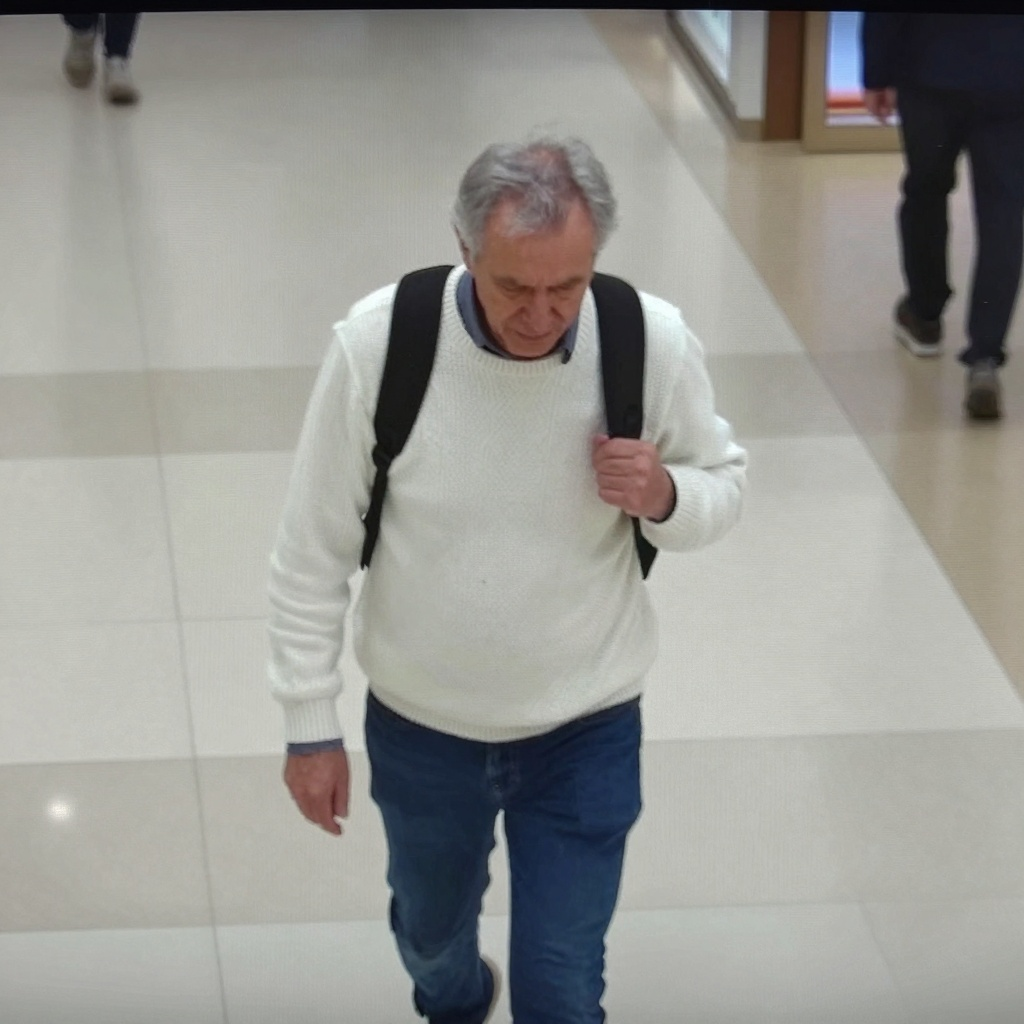Normal activity: (261, 135, 748, 1024), (860, 9, 1023, 375), (59, 11, 144, 106)
